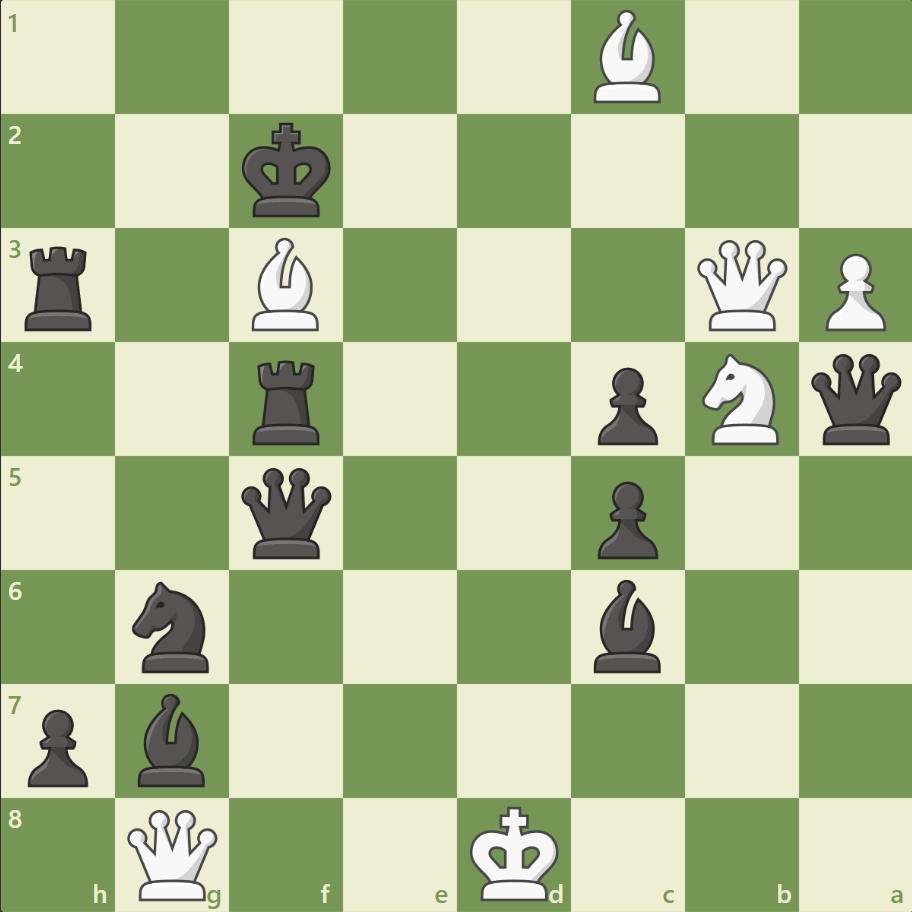B: (244, 233, 328, 336), (585, 6, 669, 109)
K: (465, 798, 565, 906)
N: (692, 348, 789, 450)
P: (815, 246, 889, 337)
Q: (124, 804, 223, 903), (691, 236, 790, 335)
b: (131, 687, 215, 790), (585, 574, 669, 676)
k: (238, 117, 338, 225)
n: (124, 575, 222, 677)
p: (20, 700, 95, 791), (588, 473, 662, 564), (588, 359, 662, 450)
q: (805, 349, 904, 449), (237, 463, 336, 562)
r: (246, 352, 329, 449), (19, 239, 102, 336)
